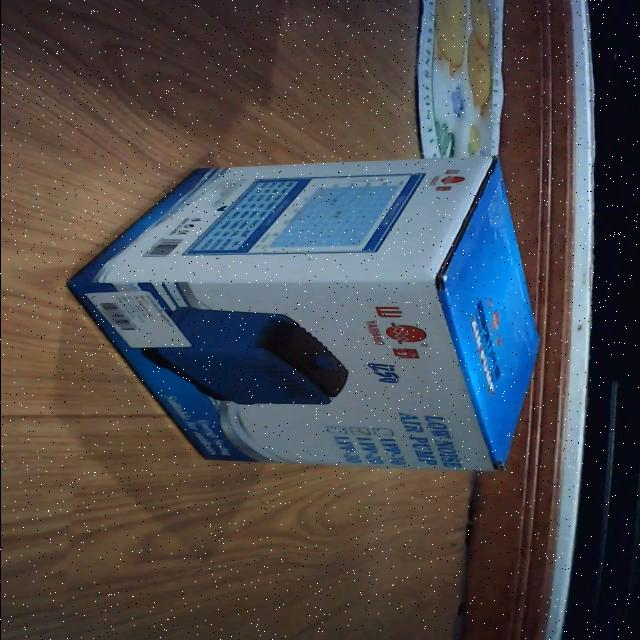YAMANO_LPP_20: (53, 150, 535, 480)
